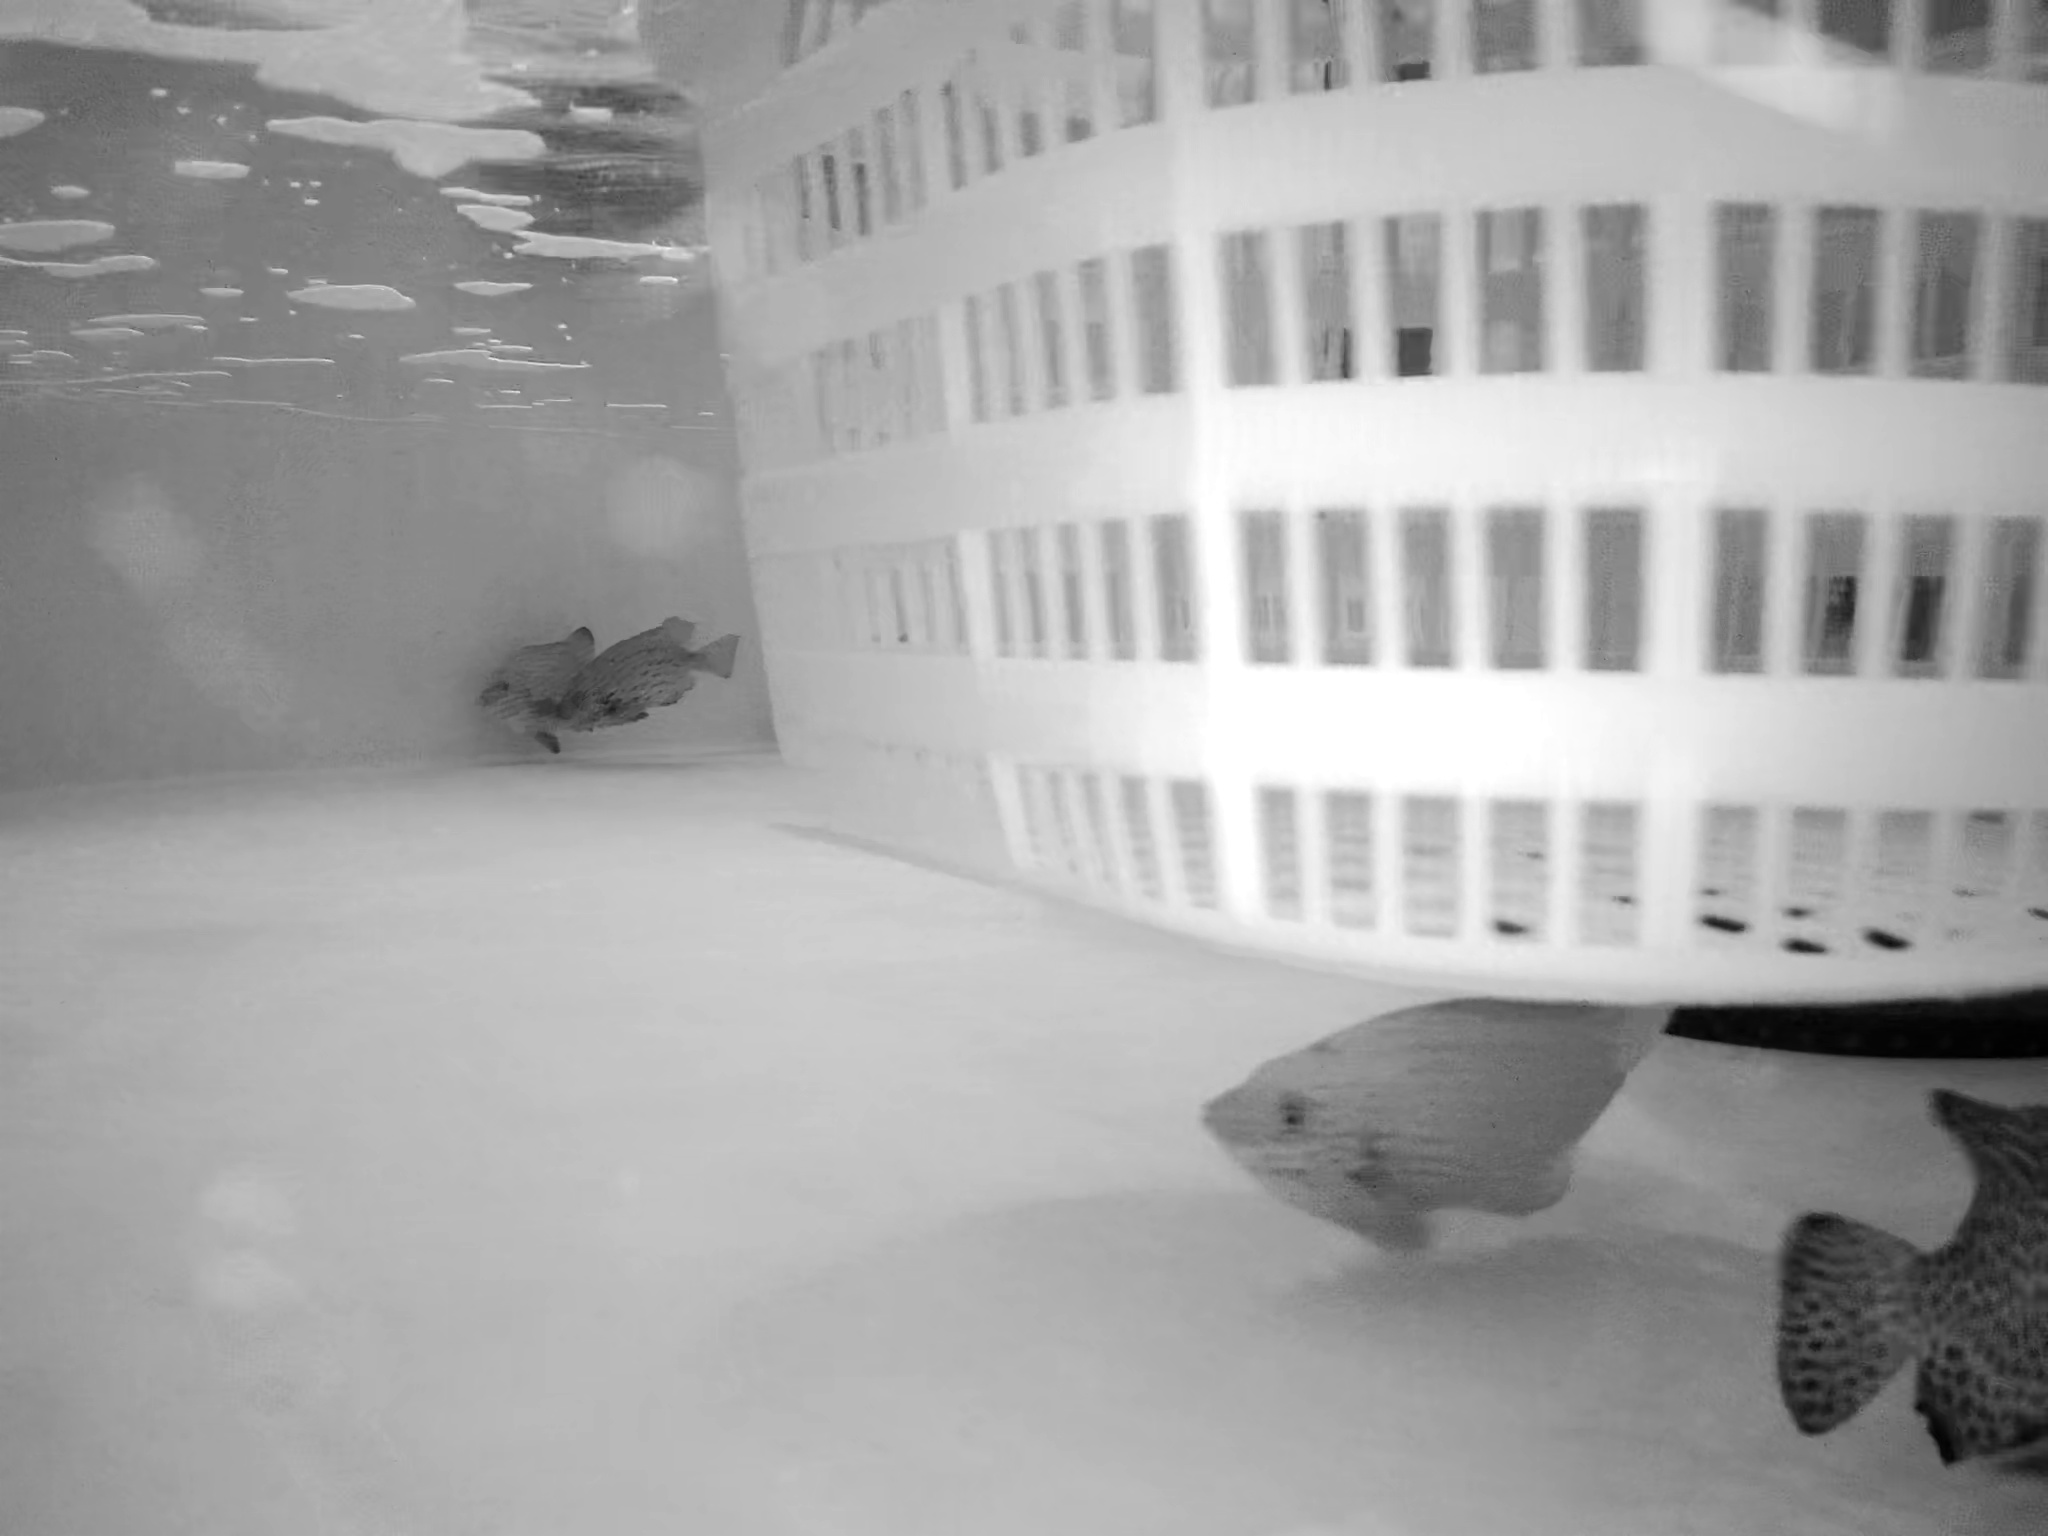fish: (1201, 975, 1679, 1246), (1787, 1076, 2048, 1476), (476, 611, 605, 760), (581, 615, 747, 728)
